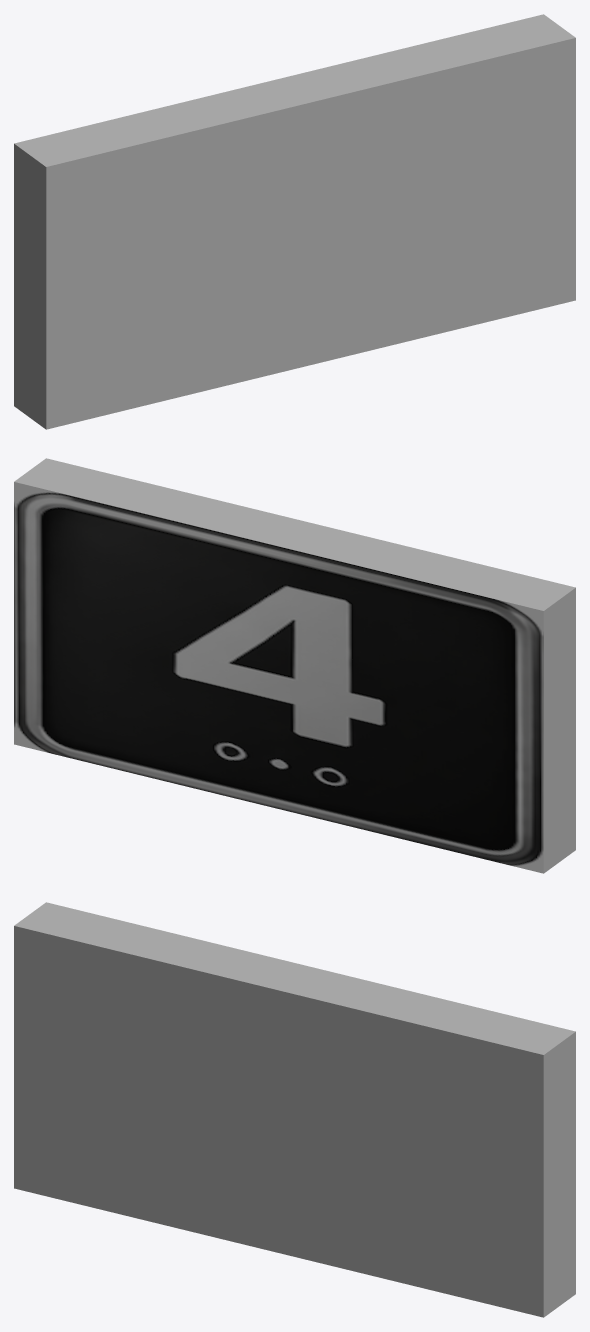
Rendered from 4_button.dae.
3 views of the same model, one above another, from view 1: azimuth 30°, elevation 25°; view 2: azimuth 150°, elevation 25°; view 3: azimuth 330°, elevation 25° (orthographic).
Visible parts, largest first — view 1: Cube_004; view 2: Cube_004; view 3: Cube_004.
Boxes of the visible parts, x1=… form: Cube_004: x1=14, y1=14, x2=575, y2=429; Cube_004: x1=14, y1=458, x2=575, y2=873; Cube_004: x1=14, y1=902, x2=575, y2=1317.
Bounding box in the file's own units: 0.19 × 0.02 × 0.09.
Materials: 2 (1 with a texture image).
